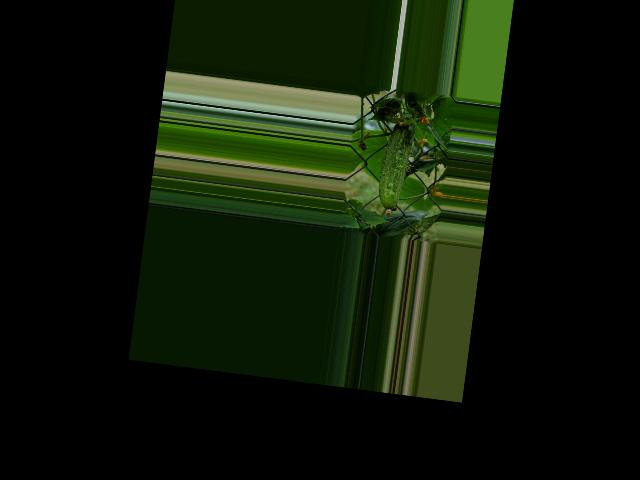cucumber: (375, 115, 415, 216)
